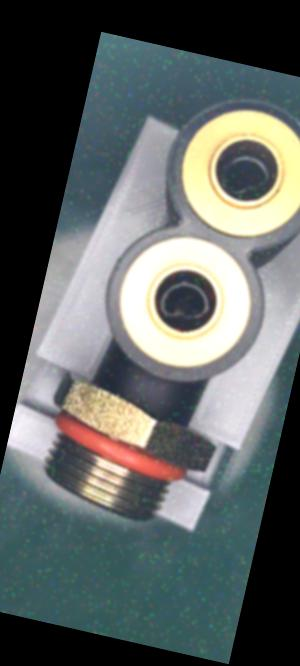joint line: (138, 376, 154, 398)
off-centered: (209, 141, 277, 208), (154, 274, 218, 335)
